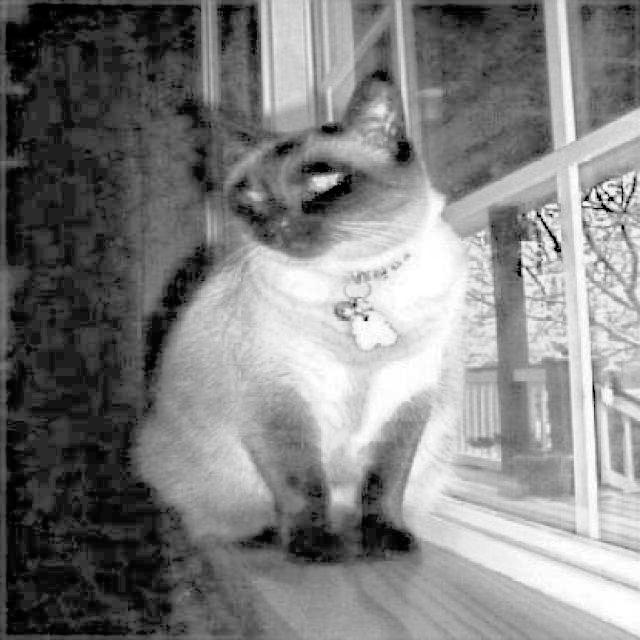Cat: (132, 75, 477, 563)
